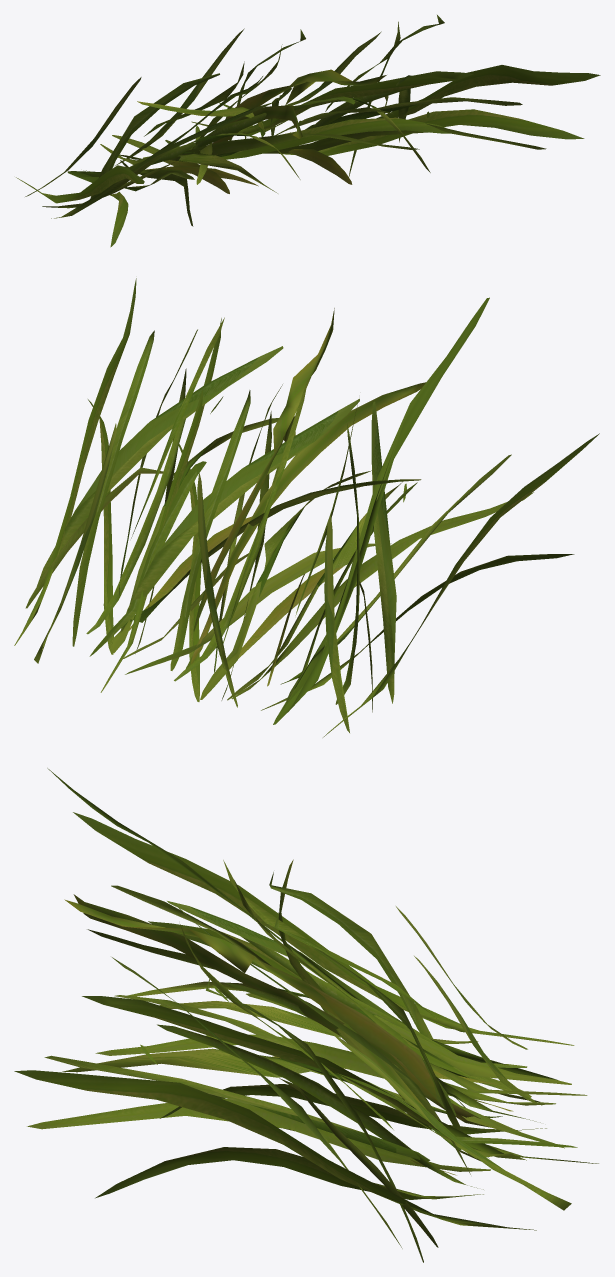
File: Lawn_Mowed_01.glb
3 views of the same model, one above another, from view 1: azimuth 30°, elevation 25°; view 2: azimuth 150°, elevation 25°; view 3: azimuth 270°, elevation 25° (orthographic). The views are drawn at different scales.
Parts seen in each view (by area): view 1: Lawn_Mowed_01; view 2: Lawn_Mowed_01; view 3: Lawn_Mowed_01.
Boxes of the visible parts, left/top/right/bottom form: Lawn_Mowed_01: left=16, top=15, right=600, bottom=247; Lawn_Mowed_01: left=14, top=278, right=599, bottom=737; Lawn_Mowed_01: left=14, top=768, right=598, bottom=1262.
Size of the model in its own units: 0.0726 by 0.04 by 0.0611.
1 material, 1 textured.
